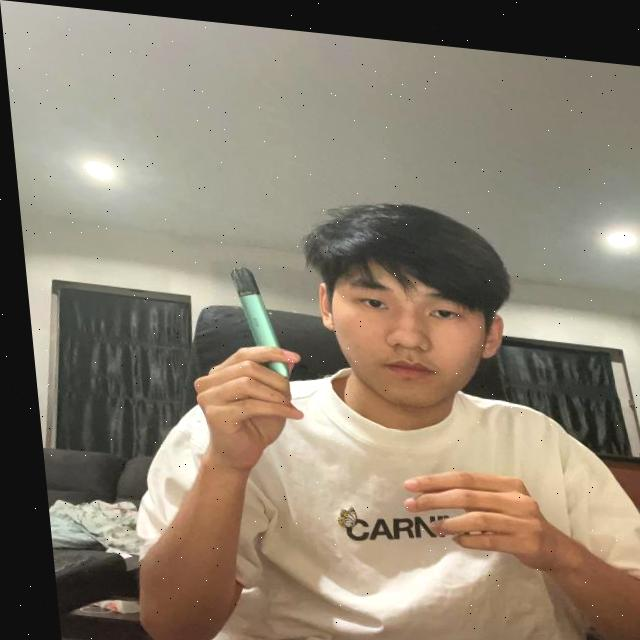vape: (226, 261, 285, 373)
